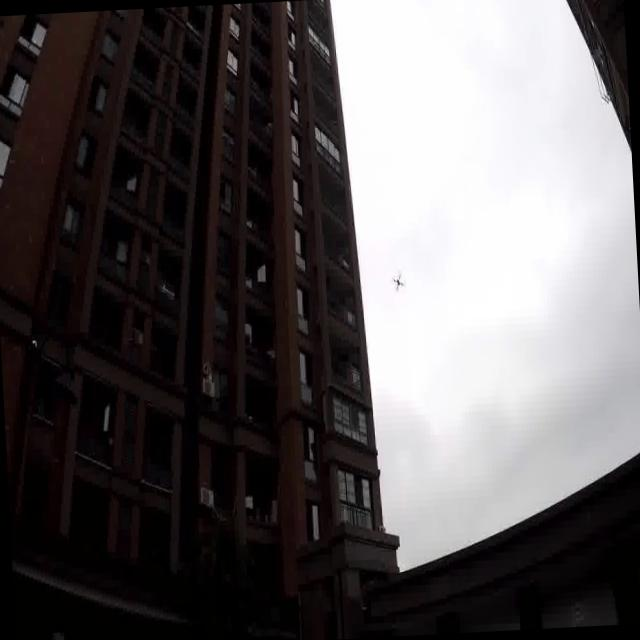drone: (391, 268, 405, 296)
